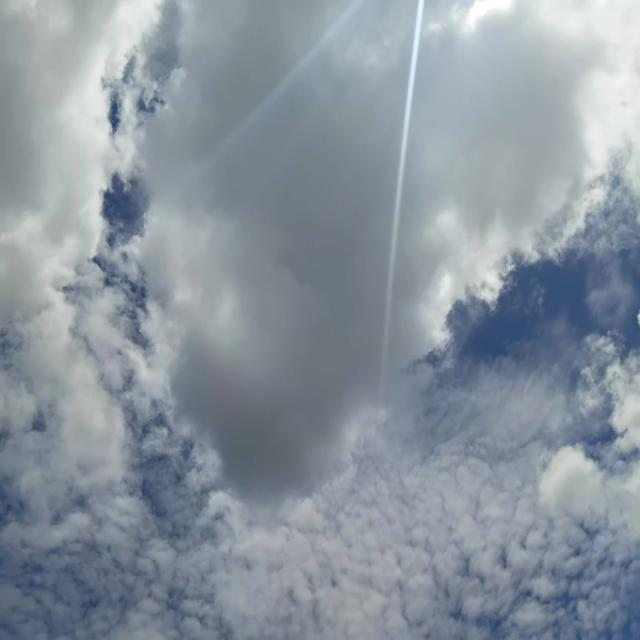cumulus: (16, 17, 616, 611)
